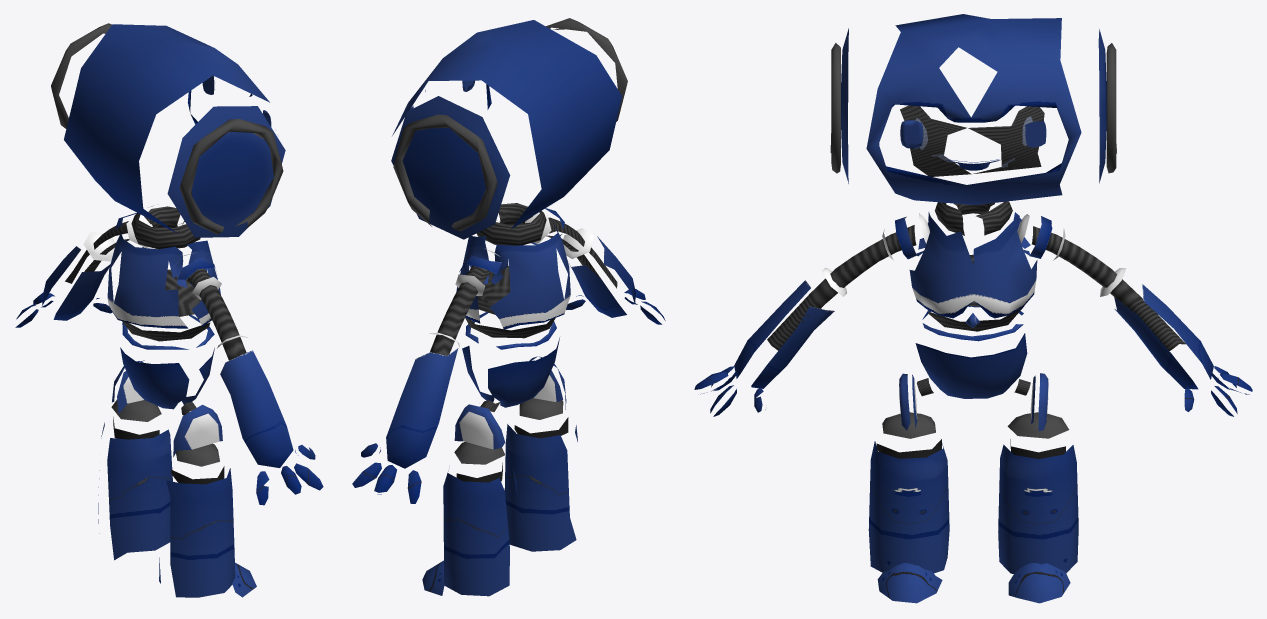
Rendered from robot-navy-smooth.glb.
The picture shows the model from 3 angles, left to right: view 1: azimuth 30°, elevation 25°; view 2: azimuth 150°, elevation 25°; view 3: azimuth 270°, elevation 25°; orthographic projection. The views are drawn at different scales.
Parts seen in each view (by area): view 1: world; view 2: world; view 3: world.
Part boxes in pixels (x1,y1,x2,y2): world: (15, 23, 323, 597); world: (352, 18, 665, 596); world: (694, 14, 1252, 603).
Bounding box in the file's own units: 1.01 × 3.44 × 3.09.
Materials: 1 (1 with a texture image).
